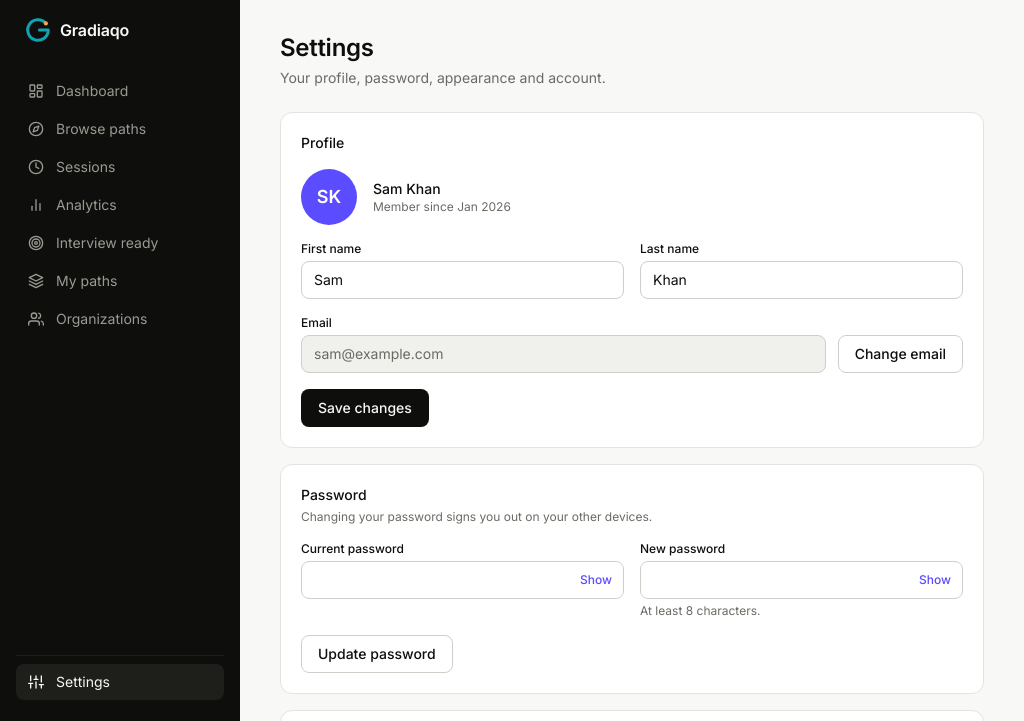
Test case: Changing the email › waits while sending and confirming
The width and height of the screenshot is (1024, 721).
Click the button "Change email": (900, 354) left=838, top=335, right=963, bottom=373
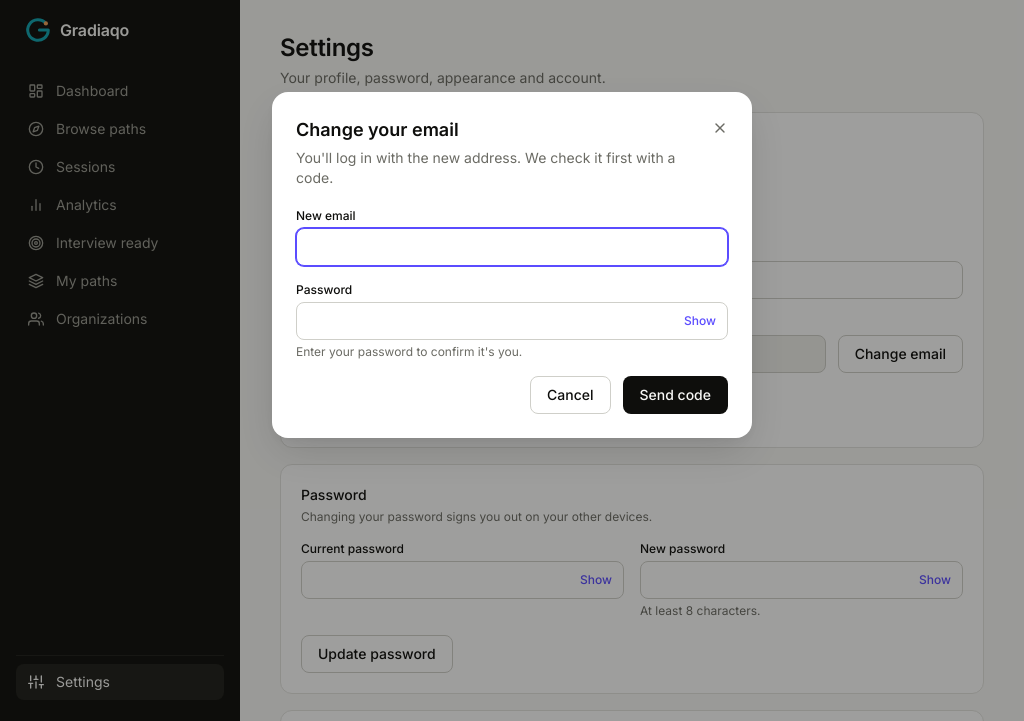
In the field labelled "New email": (512, 247) left=296, top=228, right=728, bottom=266, type " New@Example.com "
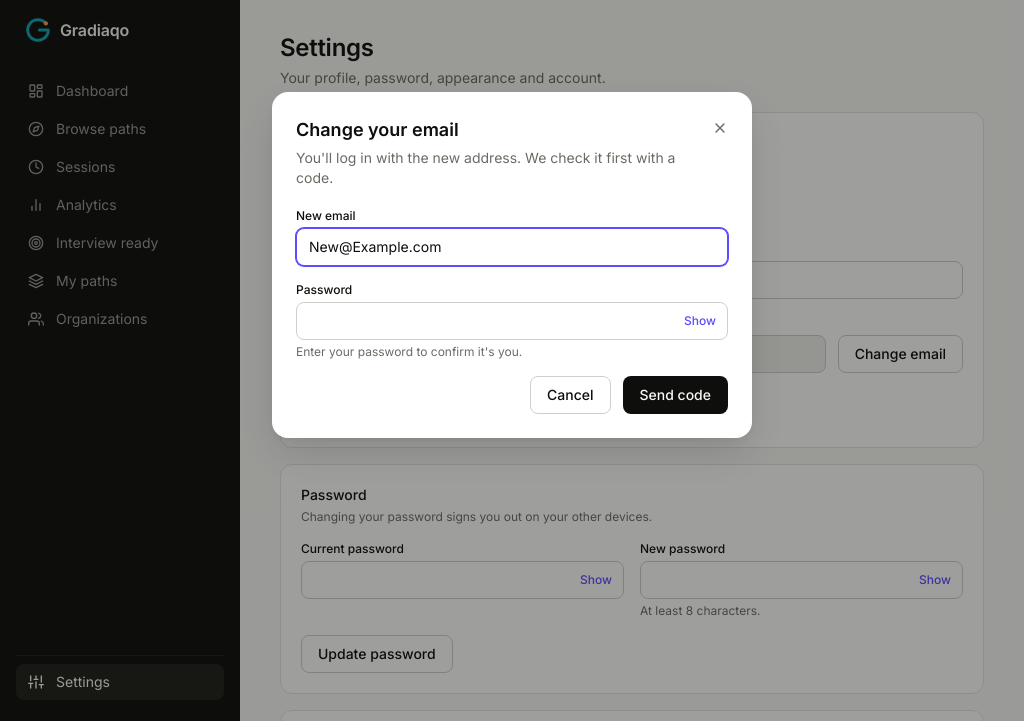
In the password field labelled "Password": (512, 321) left=296, top=302, right=728, bottom=340, type "supersecret1"
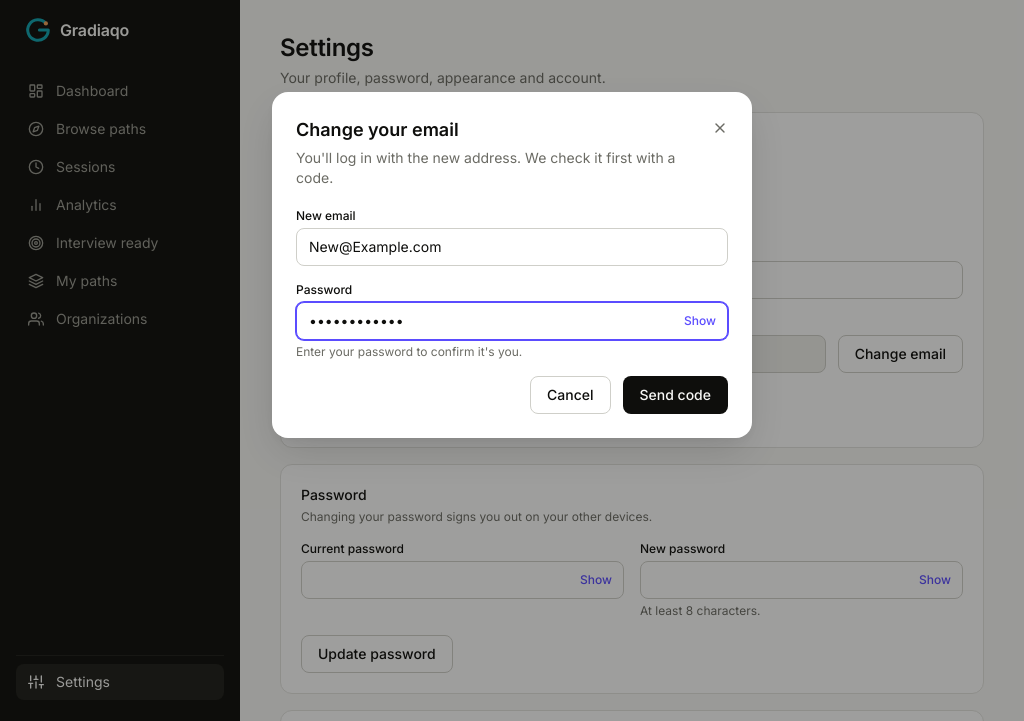
Click the button "Send code": (675, 395) left=622, top=376, right=728, bottom=414
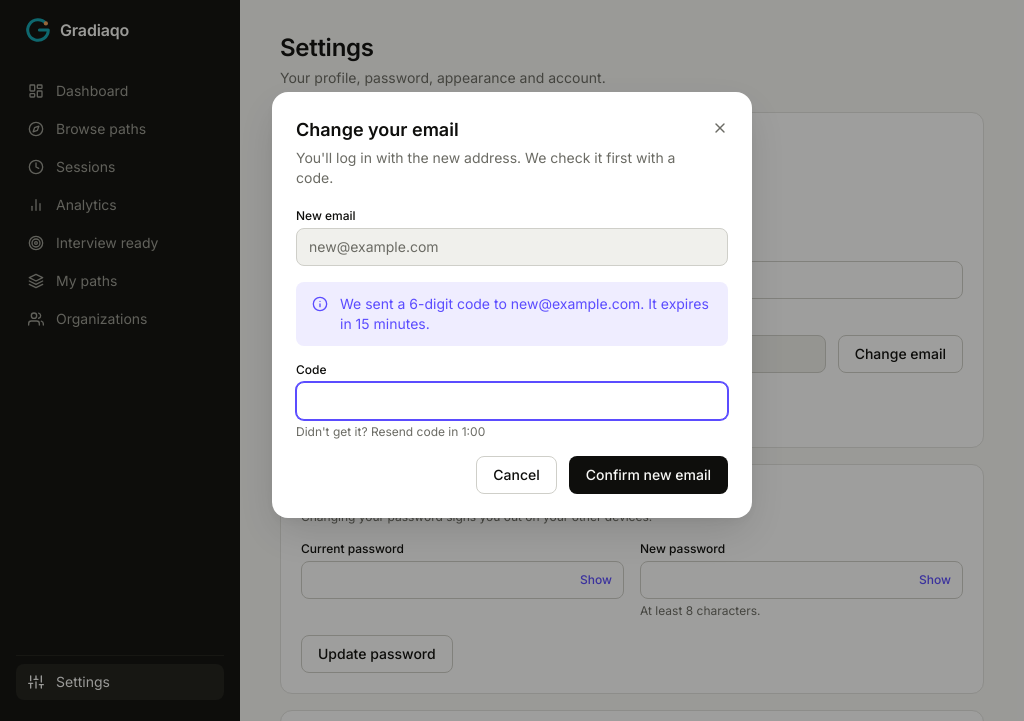
In the field labelled "Code": (512, 401) left=296, top=382, right=728, bottom=420, type "482913"
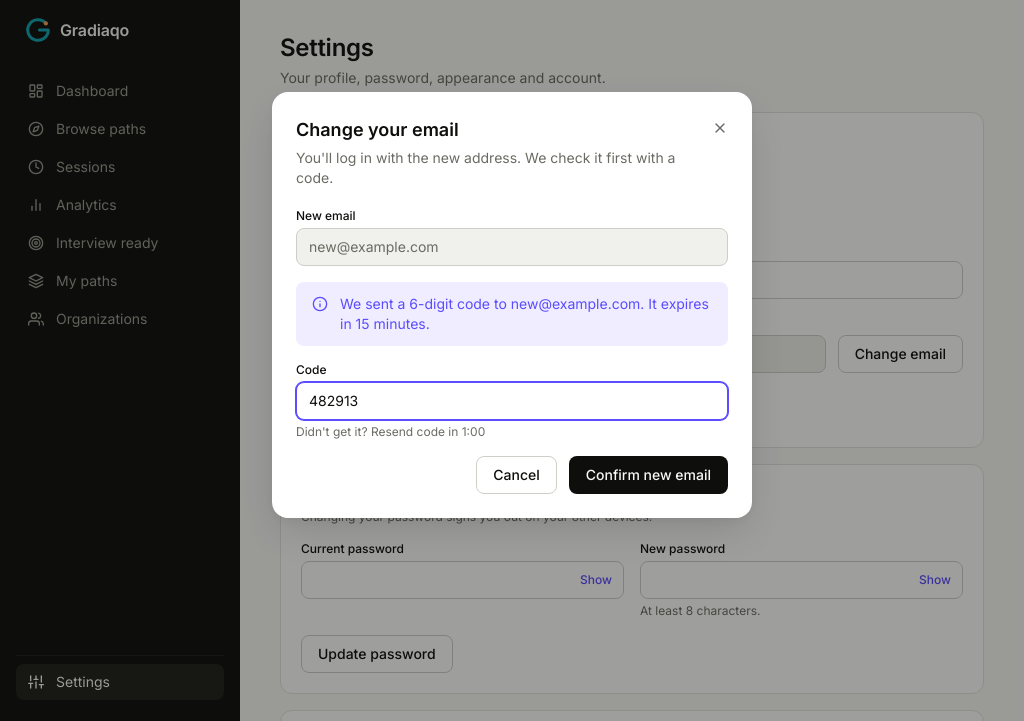
Click the button "Confirm new email": (648, 475) left=569, top=456, right=728, bottom=494
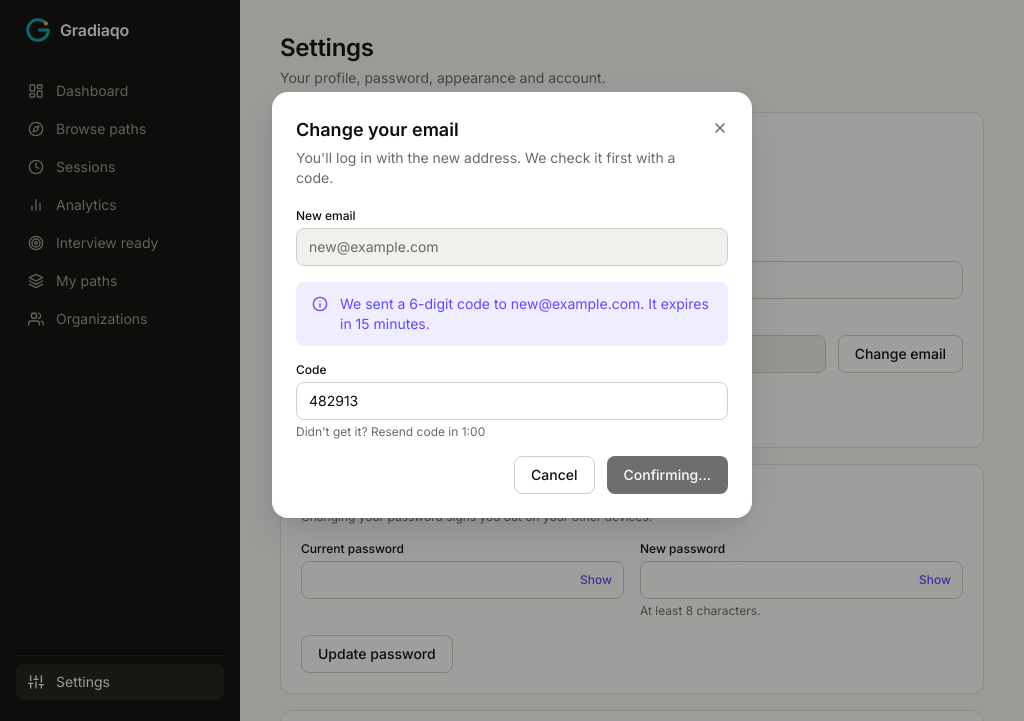
Check: the button "Confirming…" is disabled, box left=607, top=456, right=728, bottom=494
